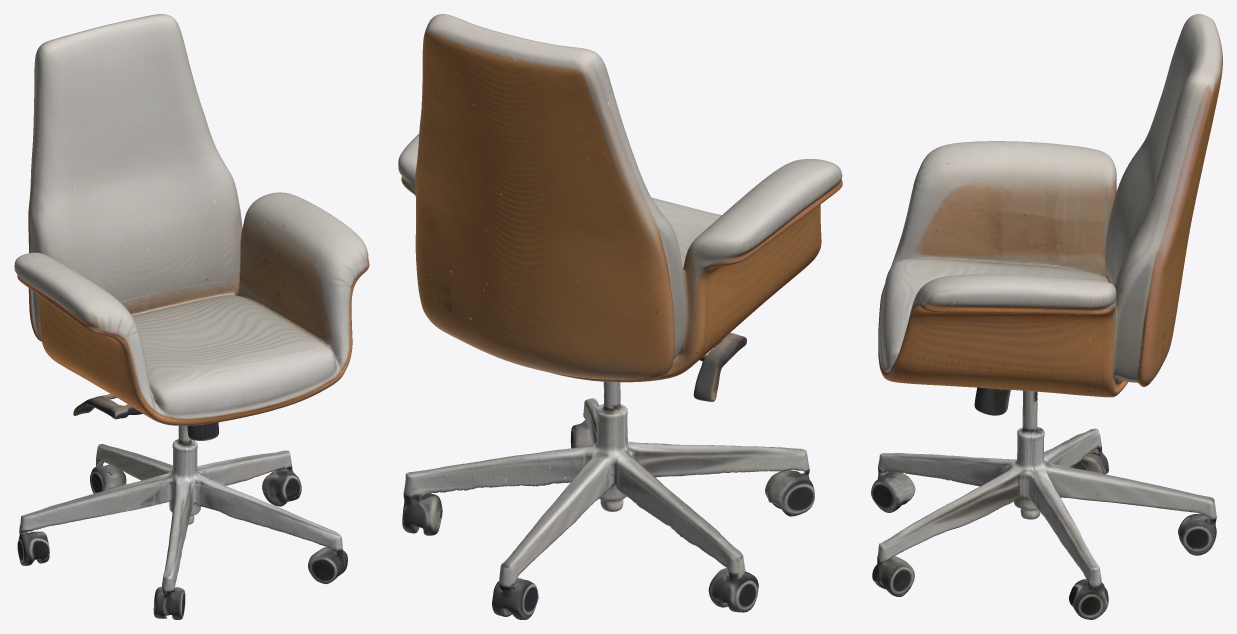
File: White and tan leather.glb
The picture shows the model from 3 angles, left to right: view 1: azimuth 30°, elevation 25°; view 2: azimuth 150°, elevation 25°; view 3: azimuth 270°, elevation 25°; orthographic projection. The views are drawn at different scales.
Size of the model in its own units: 1.28 by 2.01 by 1.26.
1 material, 1 textured.
